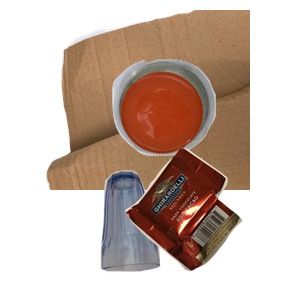cardboard: (43, 10, 283, 190)
glass: (98, 168, 251, 300)
plastic: (110, 57, 300, 205)
trash: (123, 145, 300, 300)
